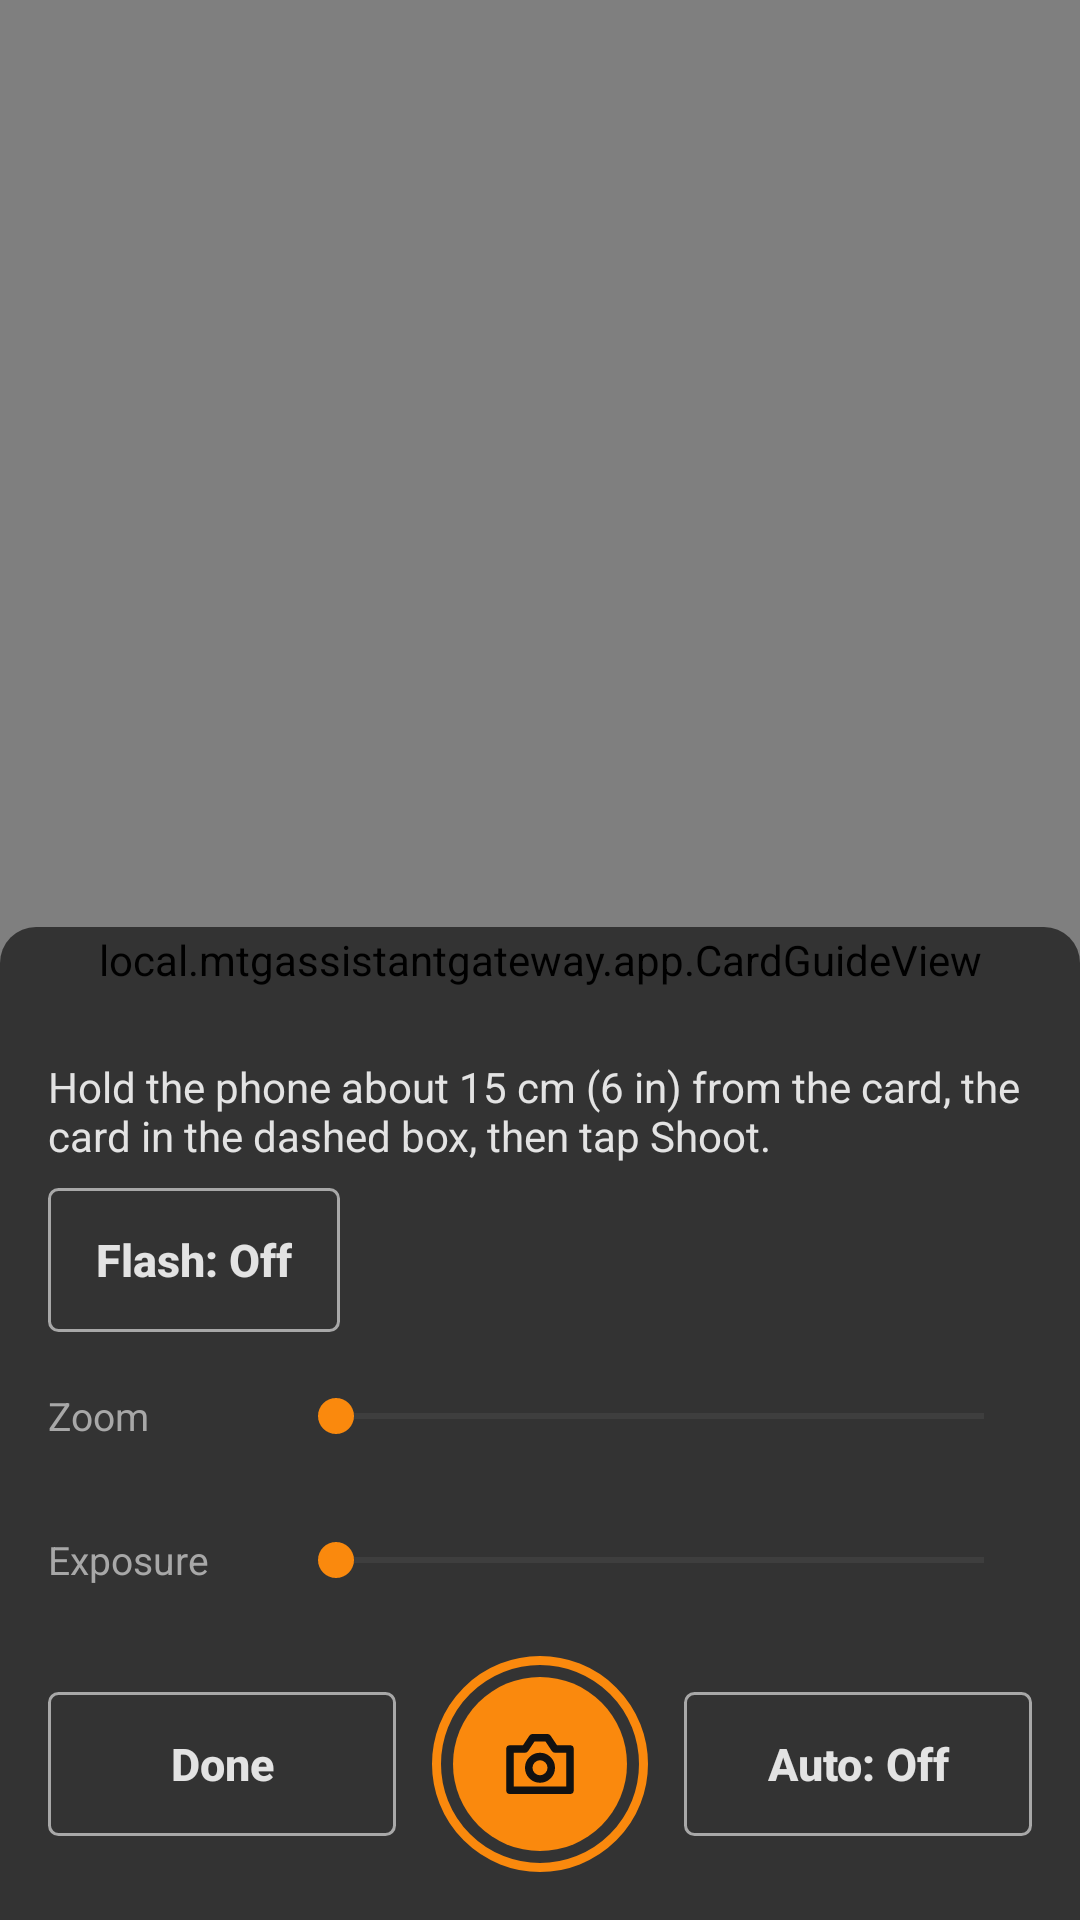

Locate icon controls on the screen. Image size 1080px x 1920px, boxes as (x1, y1, x2, y2).
Shoot: (432, 1656, 648, 1872)
